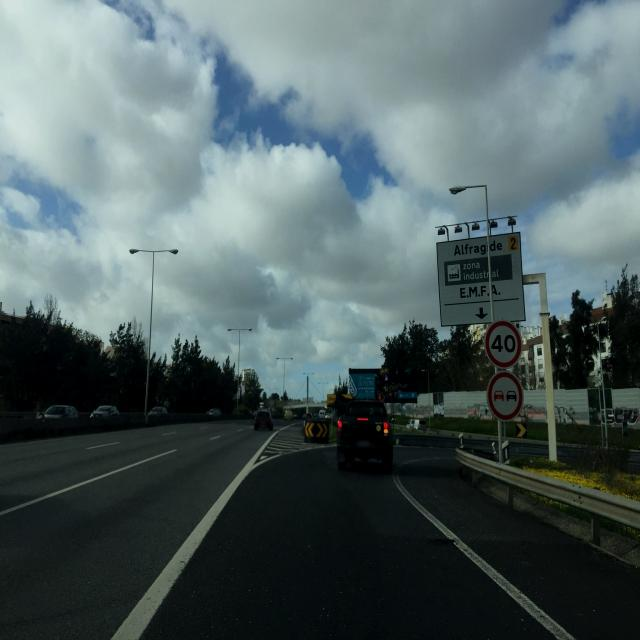car: (336, 398, 394, 472), (40, 404, 78, 419), (253, 410, 274, 430), (90, 405, 119, 417), (148, 406, 168, 415), (206, 407, 222, 416)
